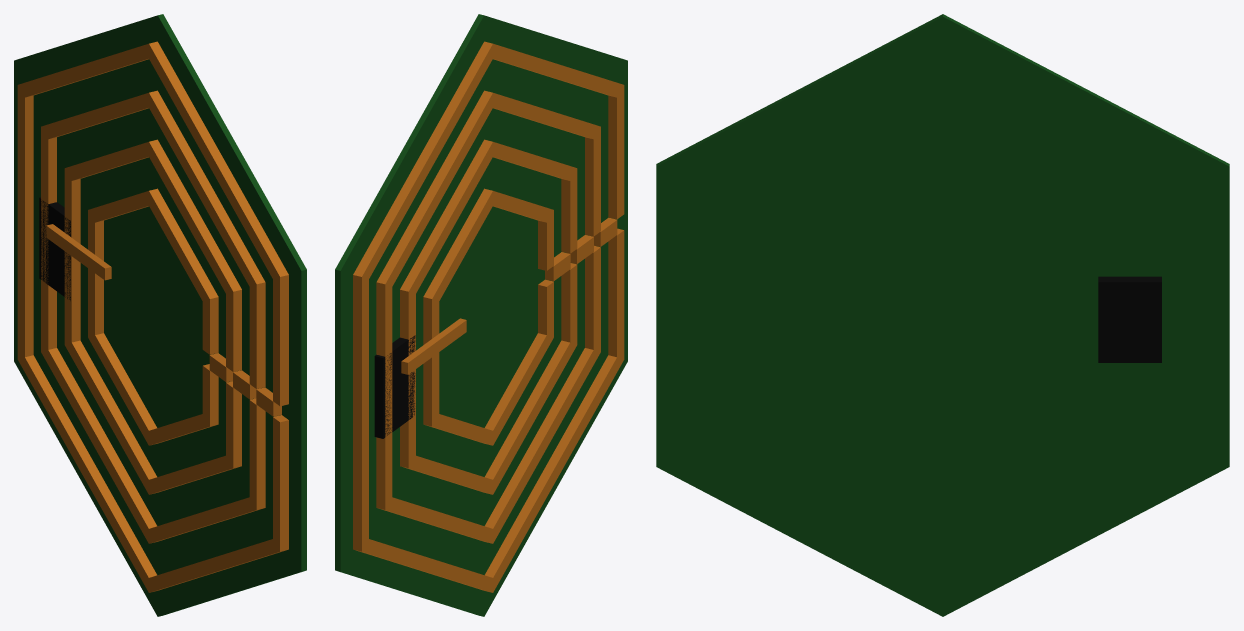
File: core-electronics.gltf
3 views of the same model, side by side, from view 1: azimuth 30°, elevation 25°; view 2: azimuth 150°, elevation 25°; view 3: azimuth 270°, elevation 25° (orthographic).
Bounding box in the file's own units: 0.0016 × 0.0261 × 0.0226.
